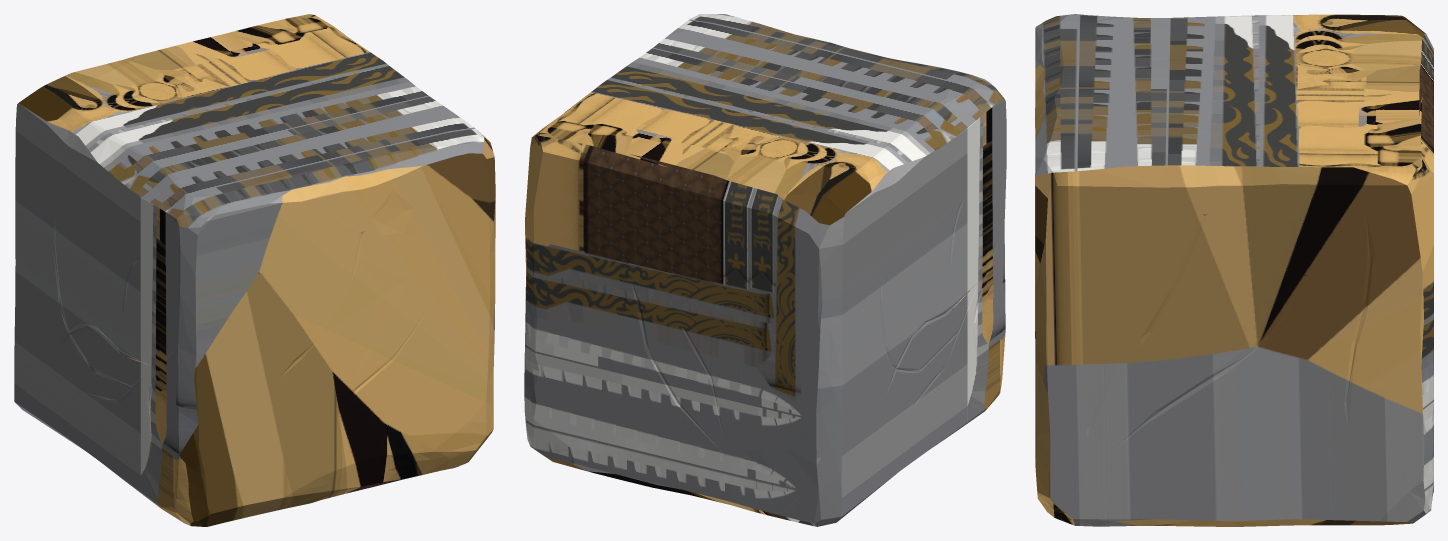
The model's file is StoneBox.fbx.
The picture shows the model from 3 angles, left to right: view 1: azimuth 30°, elevation 25°; view 2: azimuth 150°, elevation 25°; view 3: azimuth 270°, elevation 25°; orthographic projection. The views are drawn at different scales.
Visible parts, largest first — view 1: defaultMaterial; view 2: defaultMaterial; view 3: defaultMaterial.
Part boxes in pixels (left/top/right/bottom): defaultMaterial: left=14, top=14, right=495, bottom=526; defaultMaterial: left=524, top=14, right=1006, bottom=526; defaultMaterial: left=1035, top=14, right=1433, bottom=526.
Bounding box in the file's own units: 200 × 200 × 200.
